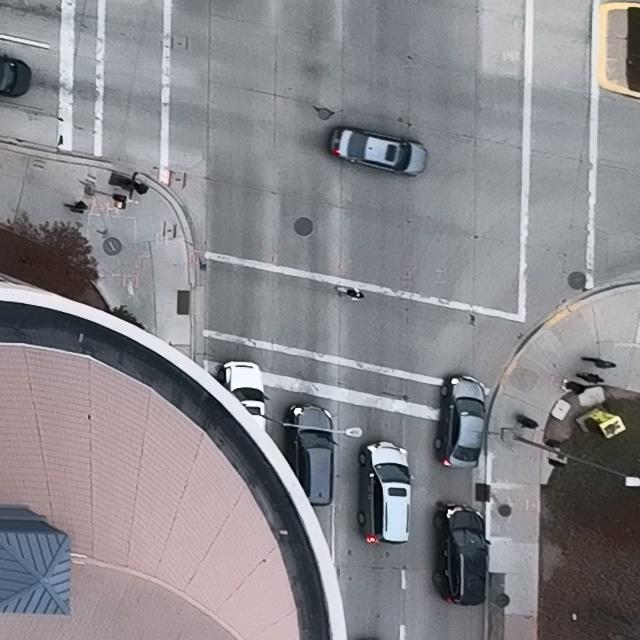car: (434, 502, 493, 605), (358, 441, 414, 545), (285, 405, 338, 506), (434, 375, 488, 469), (326, 126, 429, 175), (218, 360, 270, 431), (0, 52, 31, 98)
